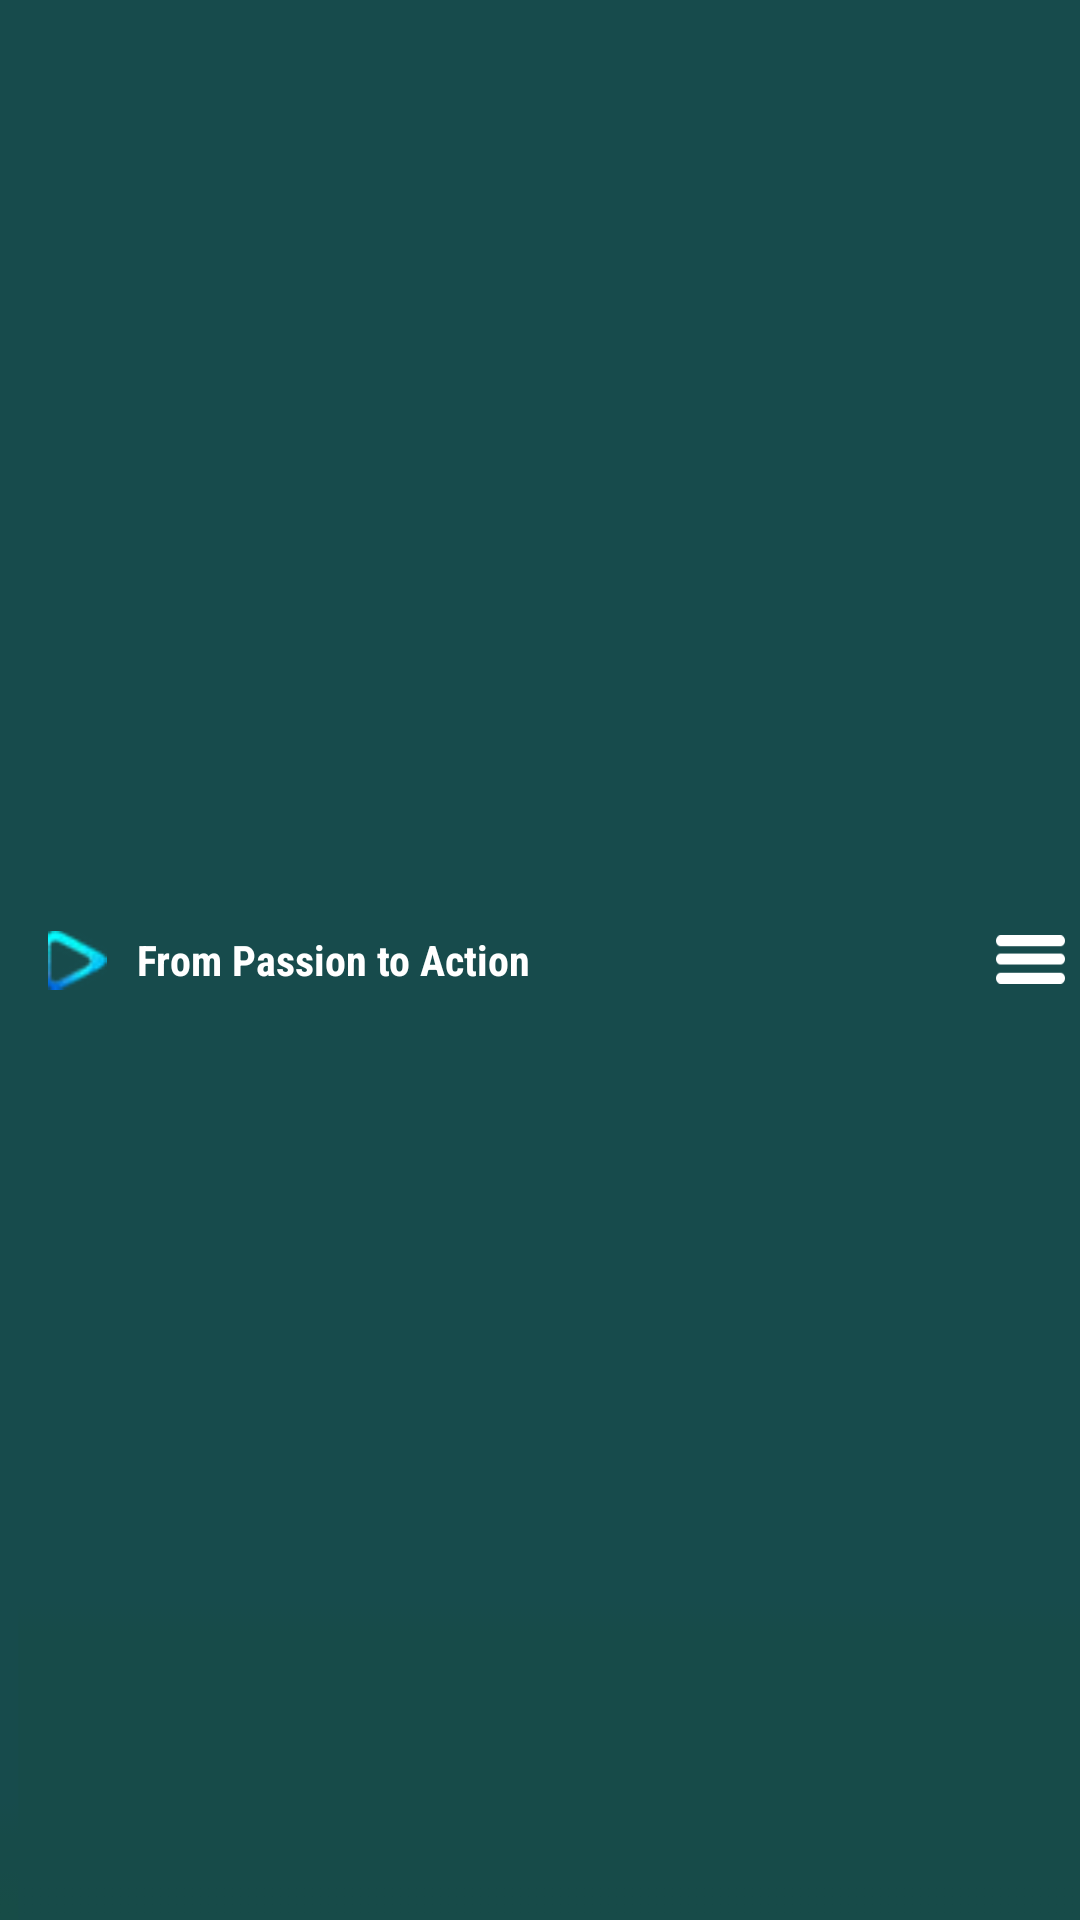

Icons on this 1080px x 1920px Android screen, each with its box as {"left": x1, "top": y1, "right": x2, "bottom": y2}:
iconmenunavigasi: {"left": 996, "top": 935, "right": 1065, "bottom": 984}
